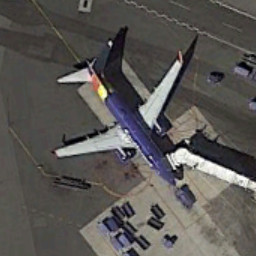Airplane: (50, 40, 192, 200)
